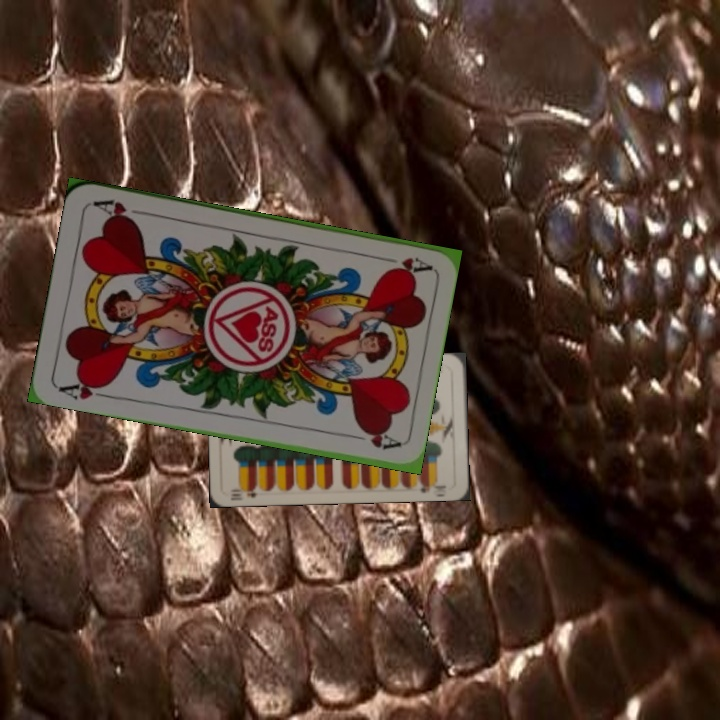E10: (227, 482, 265, 500)
HA: (54, 375, 114, 402), (374, 253, 433, 276)
